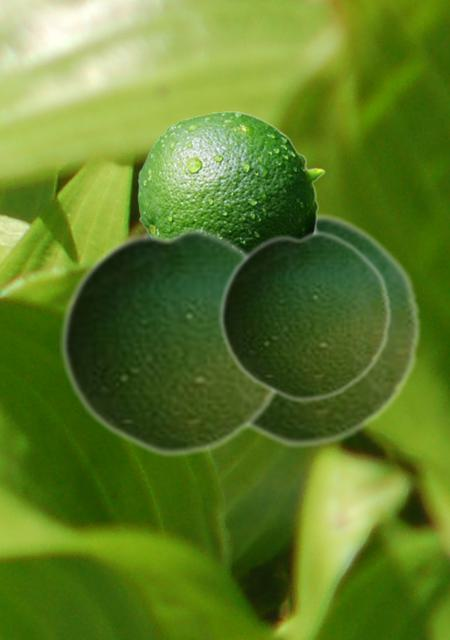dalandan: (59, 224, 278, 458), (245, 210, 421, 449), (218, 228, 391, 403), (137, 110, 324, 249)
